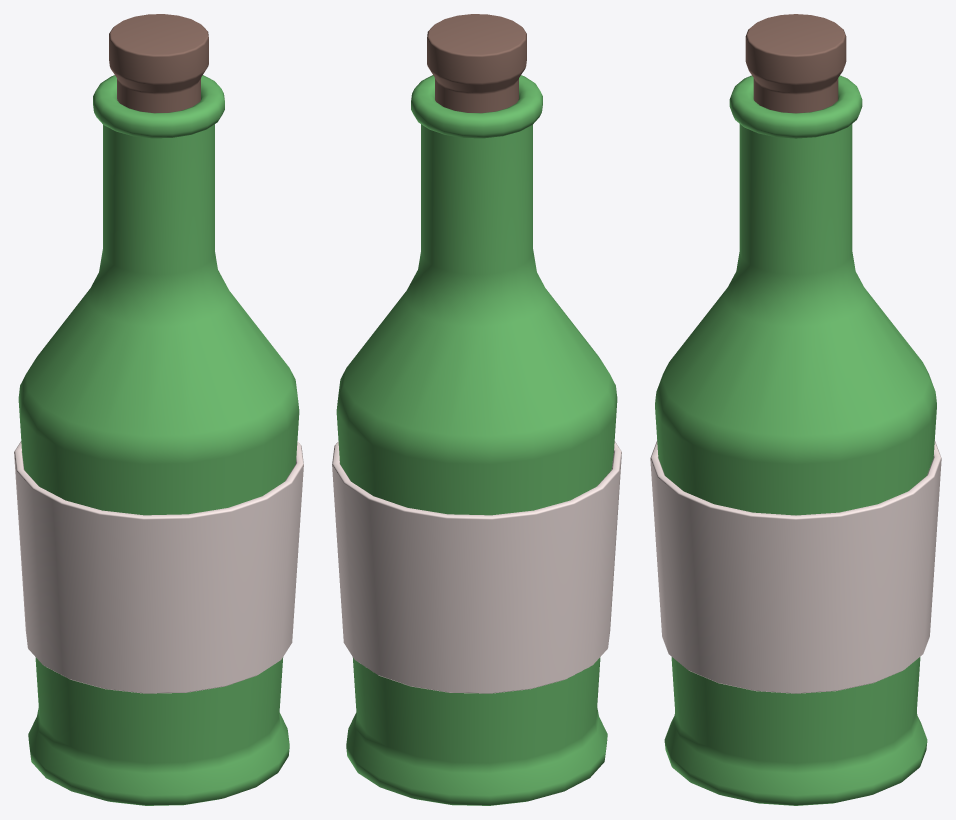
Rendered from Bottle_2.fbx.
The picture shows the model from 3 angles, left to right: view 1: azimuth 30°, elevation 25°; view 2: azimuth 150°, elevation 25°; view 3: azimuth 270°, elevation 25°; orthographic projection.
Parts seen in each view (by area): view 1: Bottle_2; view 2: Bottle_2; view 3: Bottle_2.
Part boxes in pixels (x1,y1,x2,y2): Bottle_2: (14, 14, 303, 805); Bottle_2: (332, 14, 621, 805); Bottle_2: (650, 14, 941, 805).
Size of the model in its own units: 14.61 by 39.89 by 14.61.
